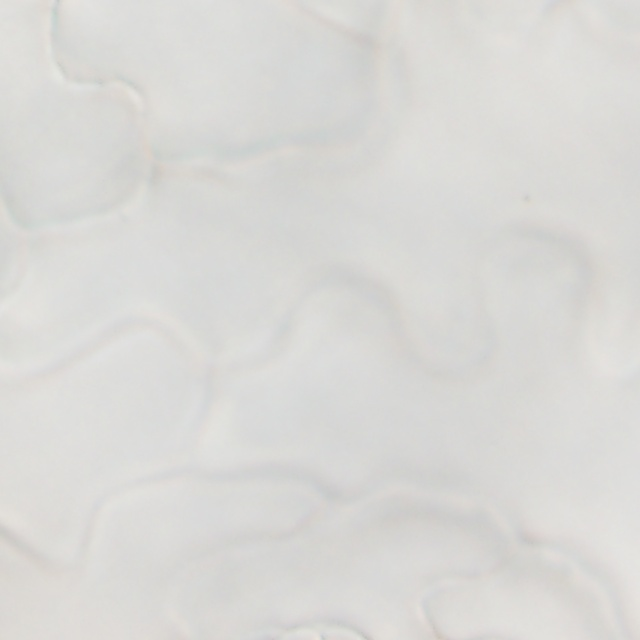center: (298, 630, 341, 633)
stomata-huw1: (272, 624, 367, 639)
